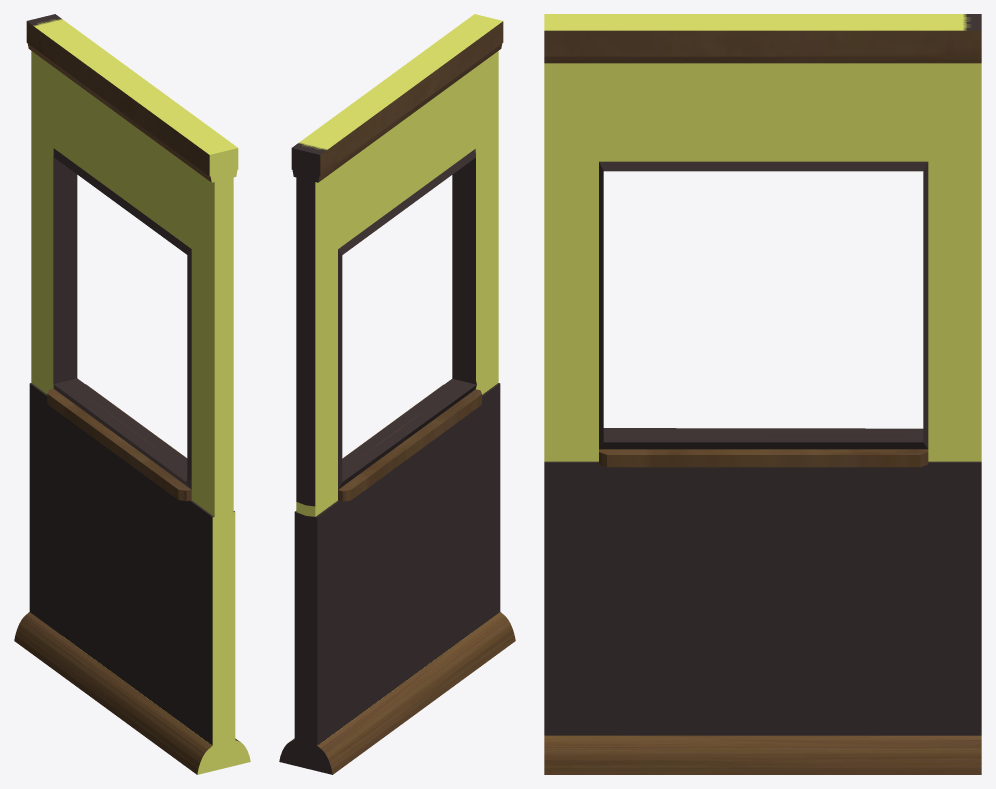
Rendered from windowwallpart.fbx.
3 views of the same model, side by side, from view 1: azimuth 30°, elevation 25°; view 2: azimuth 150°, elevation 25°; view 3: azimuth 270°, elevation 25° (orthographic). The views are drawn at different scales.
Visible parts, largest first — view 1: wall.002; view 2: wall.002; view 3: wall.002.
Boxes of the visible parts, x1,y1,x2,y2 form: wall.002: (14, 14, 250, 774); wall.002: (279, 14, 515, 774); wall.002: (544, 14, 981, 774).
Bounding box in the file's own units: 109 × 1197 × 644.
